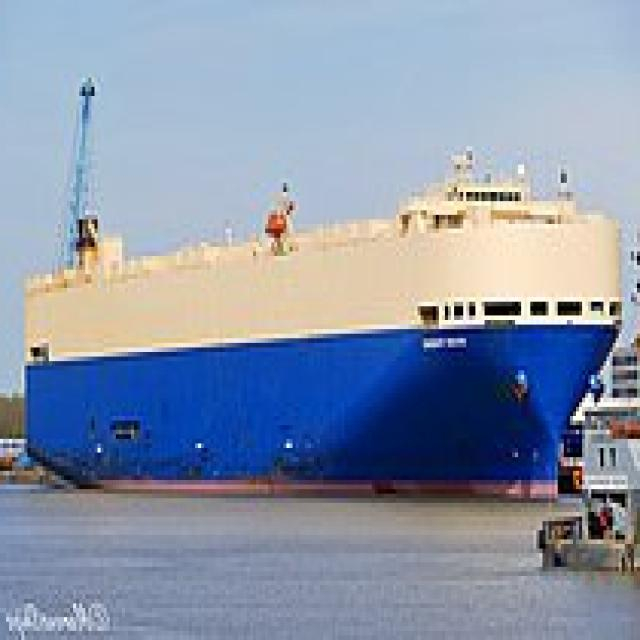Carrier: (24, 133, 628, 498)
